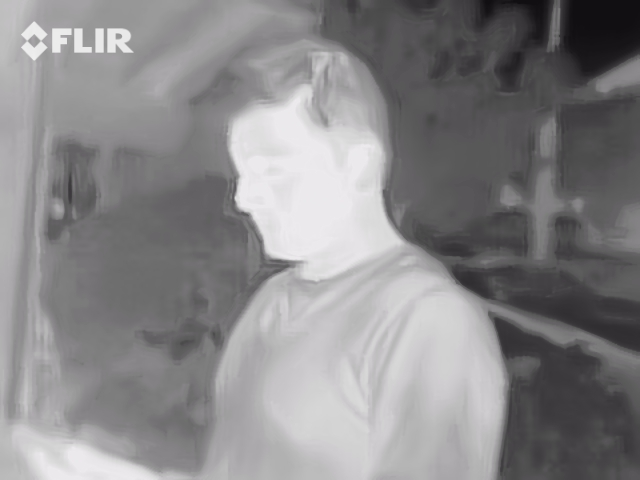head: (222, 35, 397, 269)
